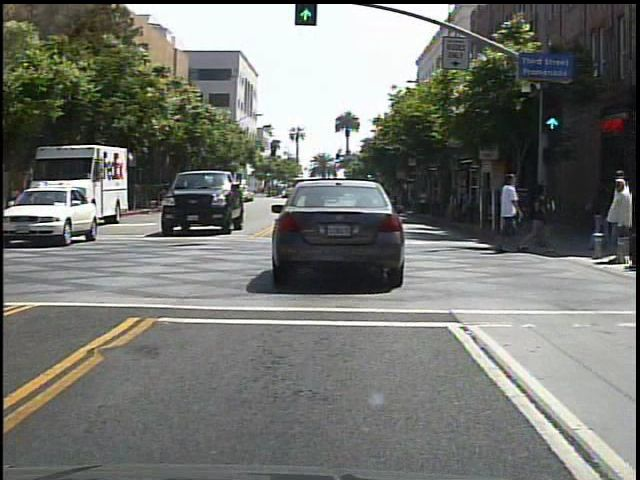person: (492, 159, 529, 257), (606, 167, 634, 267), (540, 175, 552, 251), (415, 185, 433, 218), (601, 182, 602, 250)
